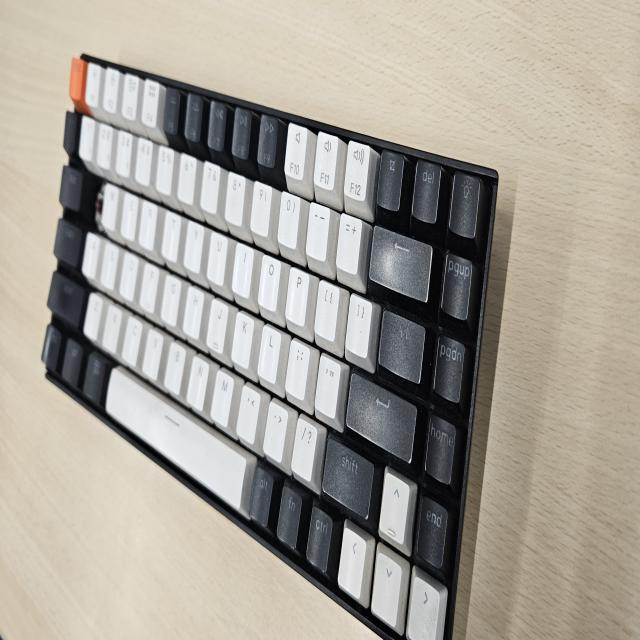C: (90, 189, 105, 225)
